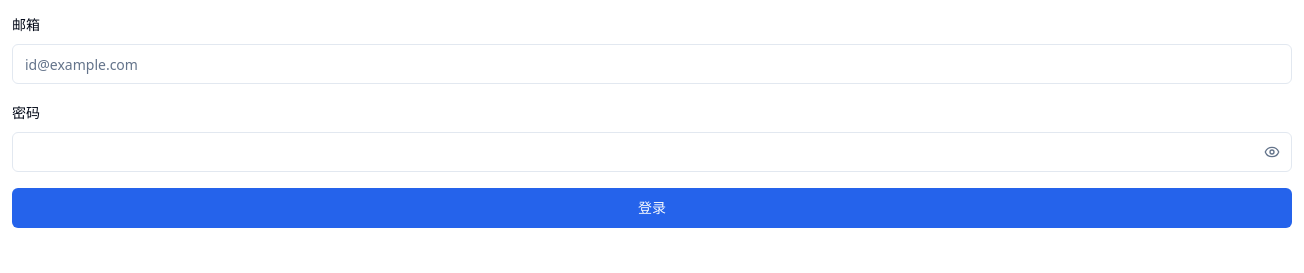
Test: SigninForm Component › should display invalid email error
This screenshot has width=1304, height=273.
In the field labelled "邮箱": {"x": 652, "y": 64} x1=12 y1=44 x2=1292 y2=84, type "admin"
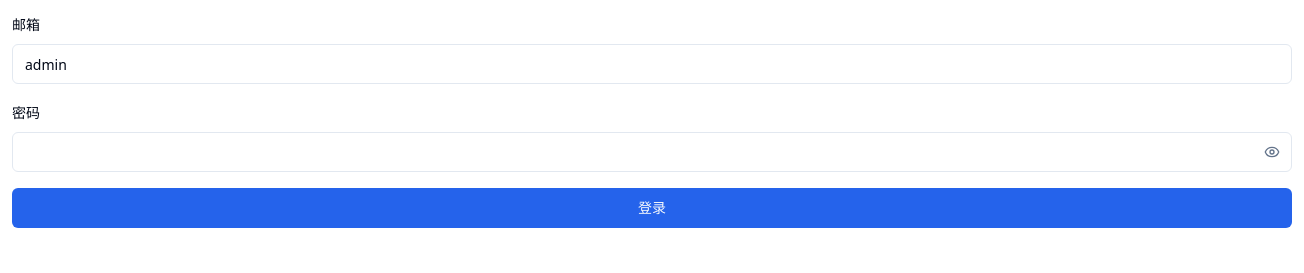
Click the button "登录": {"x": 652, "y": 208} x1=12 y1=188 x2=1292 y2=228
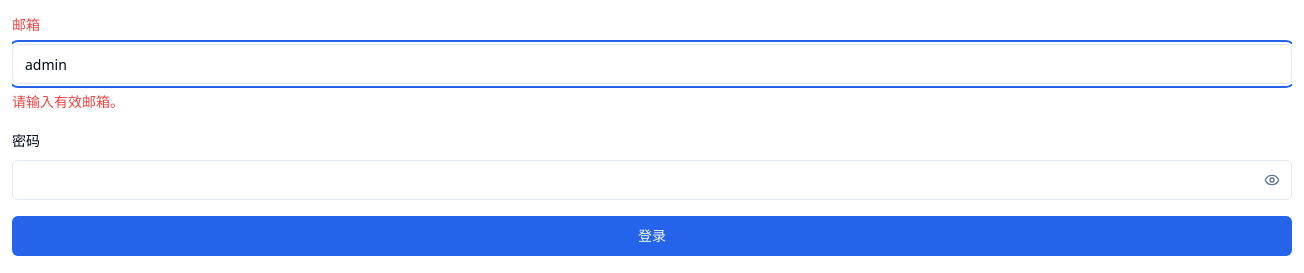
Now the text "请输入有效邮箱。" is shown, box x1=12 y1=92 x2=124 y2=111
